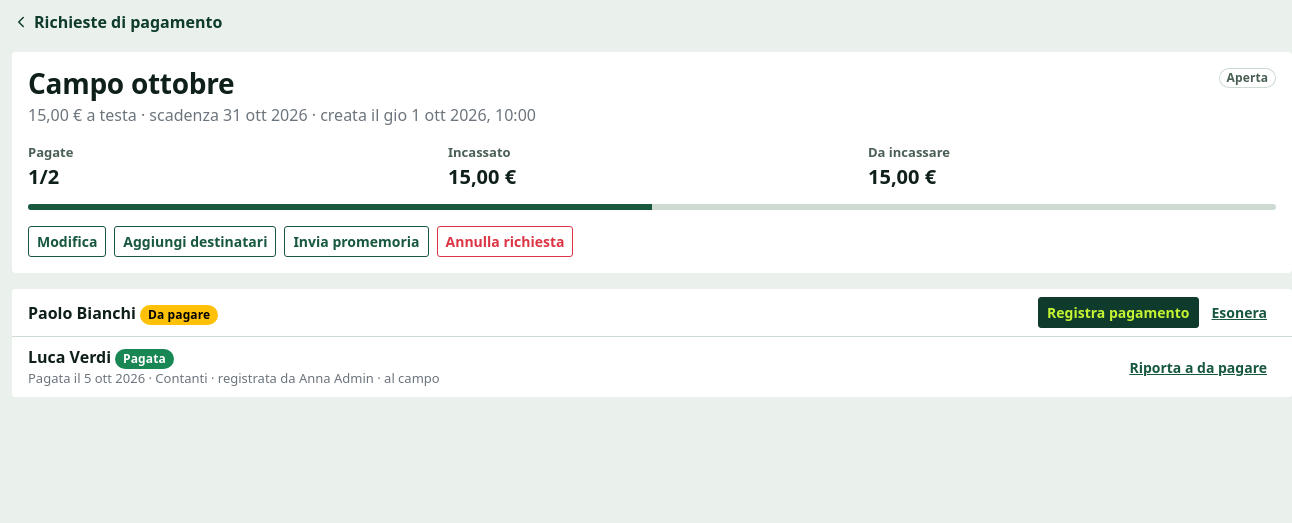
Test case: PaymentDetailPage › invia promemoria a chi deve ancora pagare
Click the button "Invia promemoria".
click(356, 242)  # box [284,226,428,257]
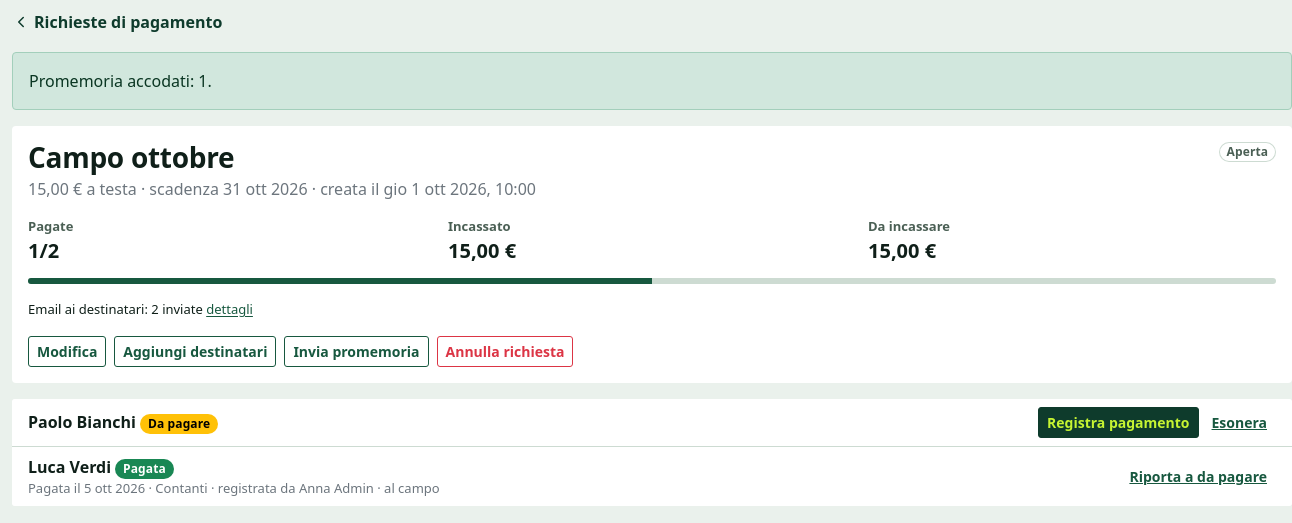
Check: the text "Promemoria accodati: 1." is shown, box [12,52,1291,110]
